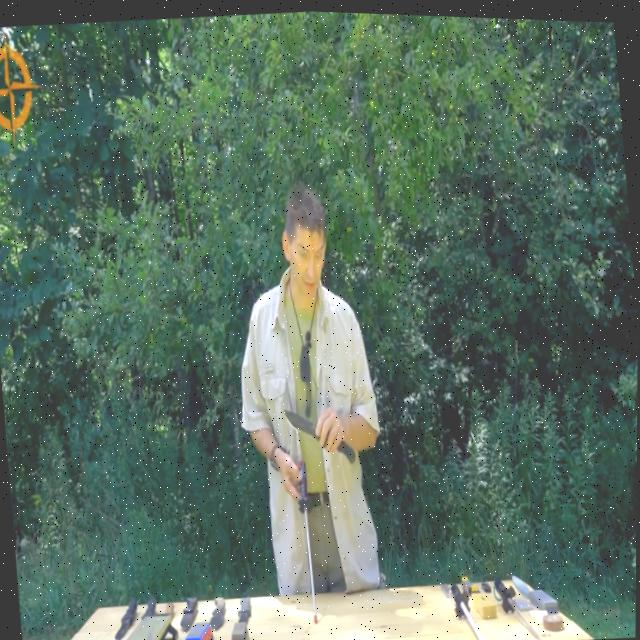knife: (282, 399, 358, 467), (112, 593, 142, 640), (178, 593, 201, 630), (208, 593, 229, 630), (236, 593, 255, 625), (140, 596, 158, 621), (164, 598, 176, 614)
